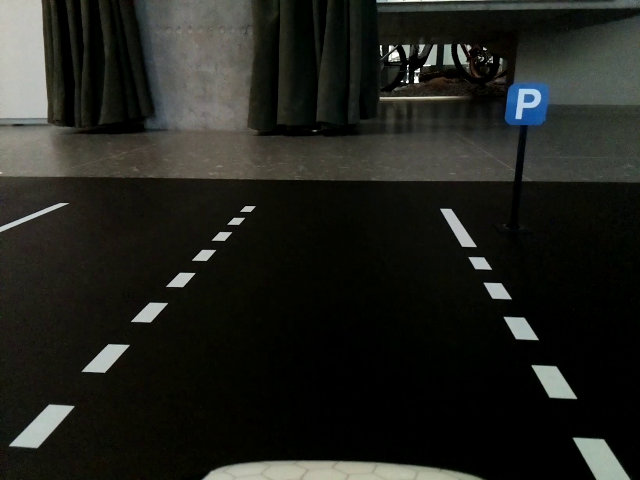park: (507, 83, 547, 129)
